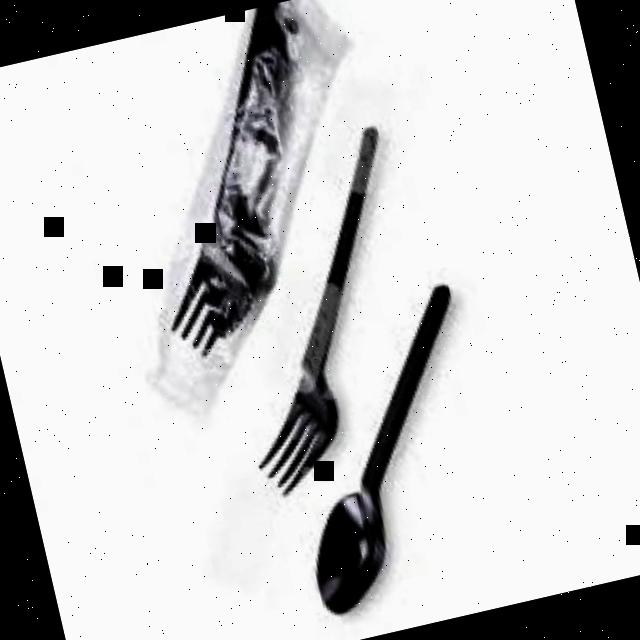plastic_spoon: (106, 0, 518, 640)
